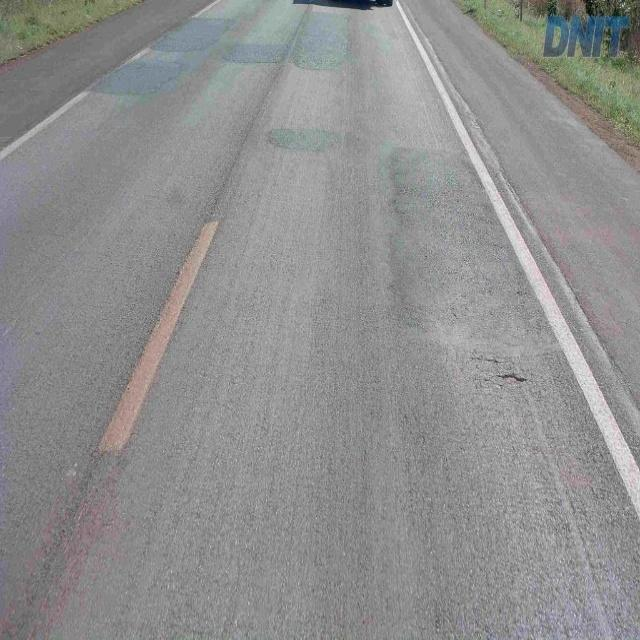pothole: (486, 367, 534, 384)
